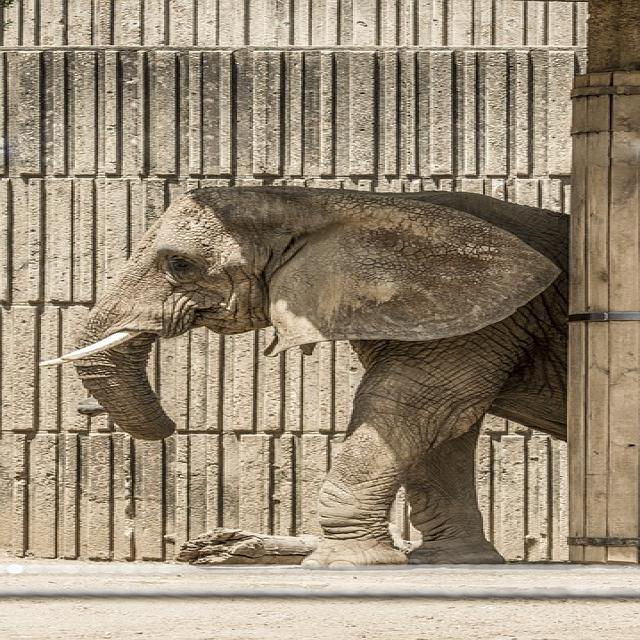FIL: (39, 175, 566, 570)
